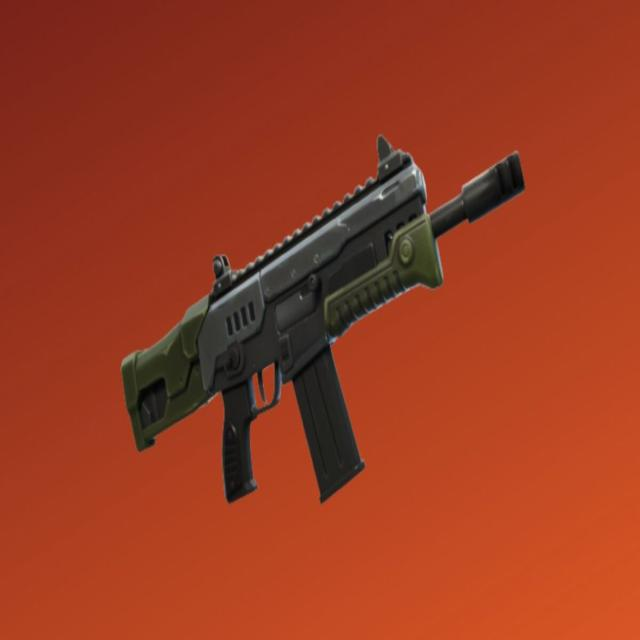Rifle: (121, 137, 526, 504)
